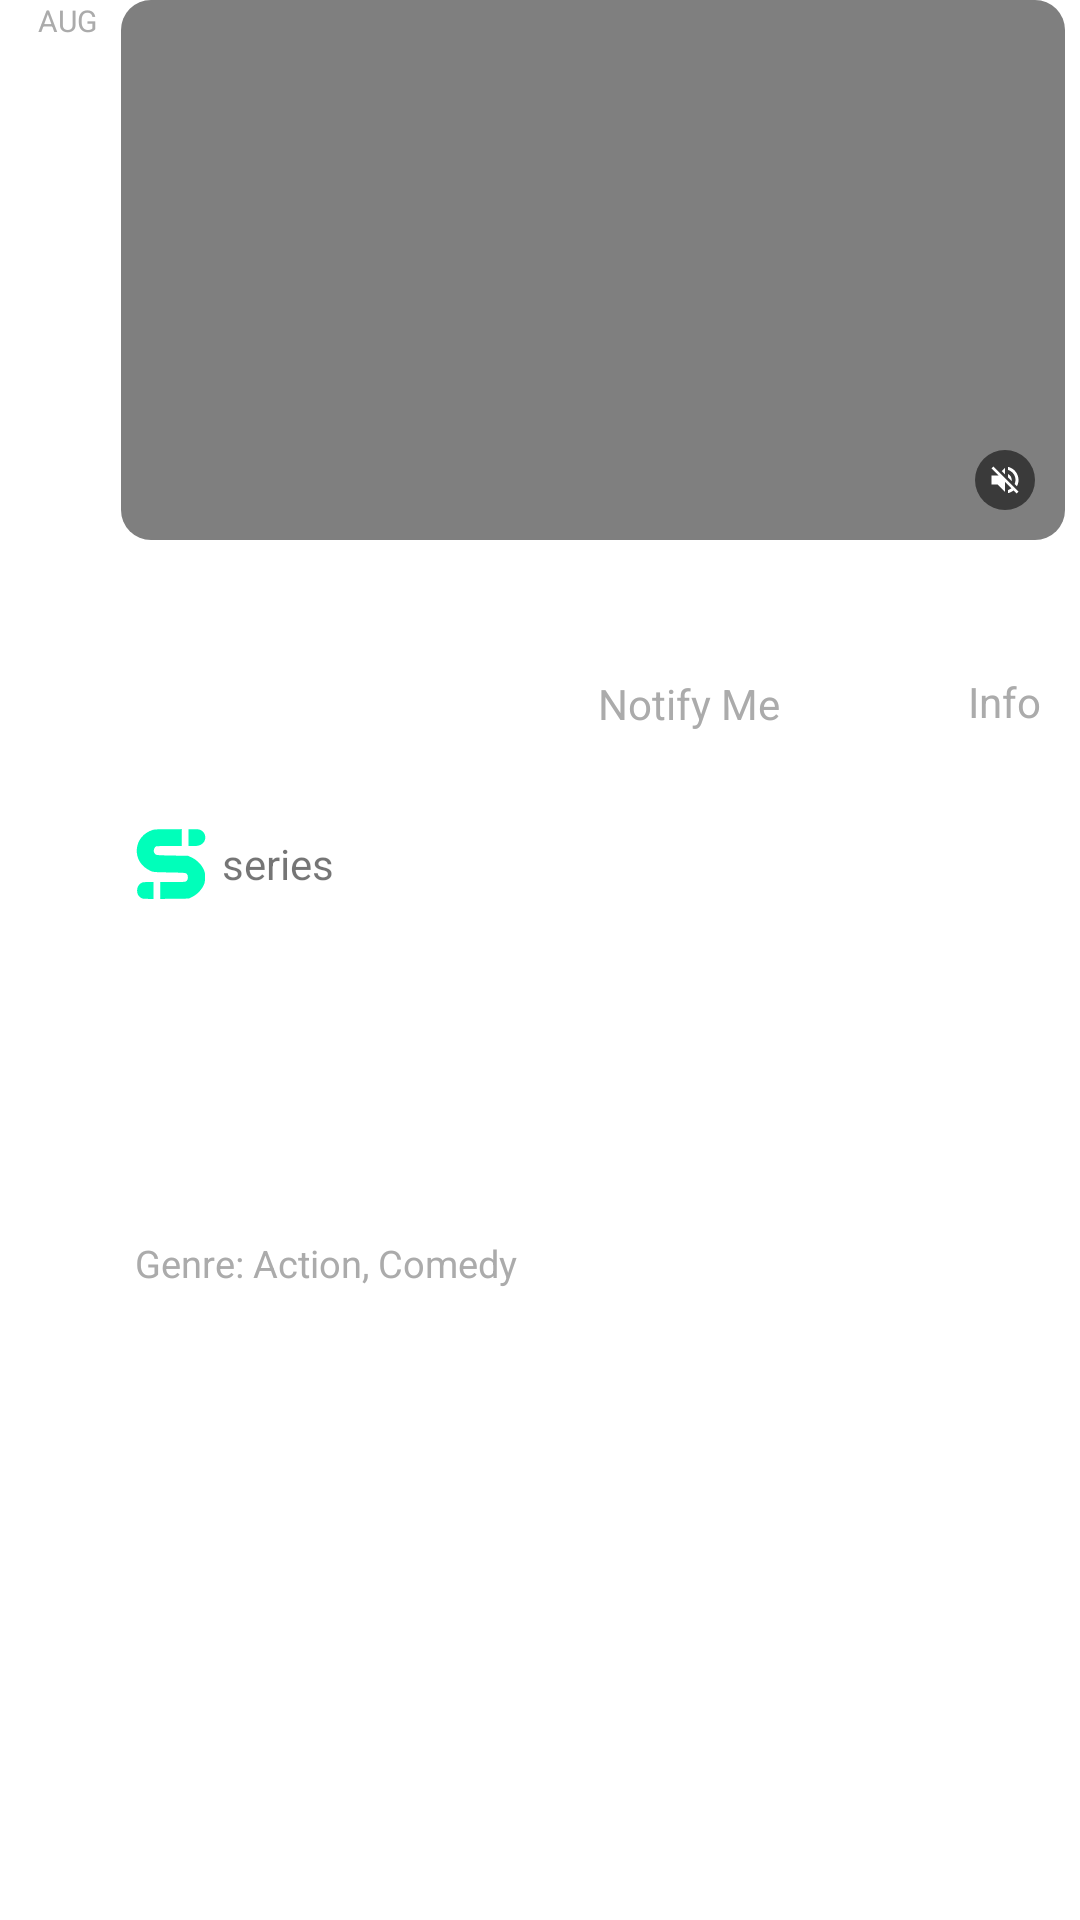

Icons on this 1080 x 1920 Android screen, each with the point to tap as [x,y]:
unmute: [1005,480]
